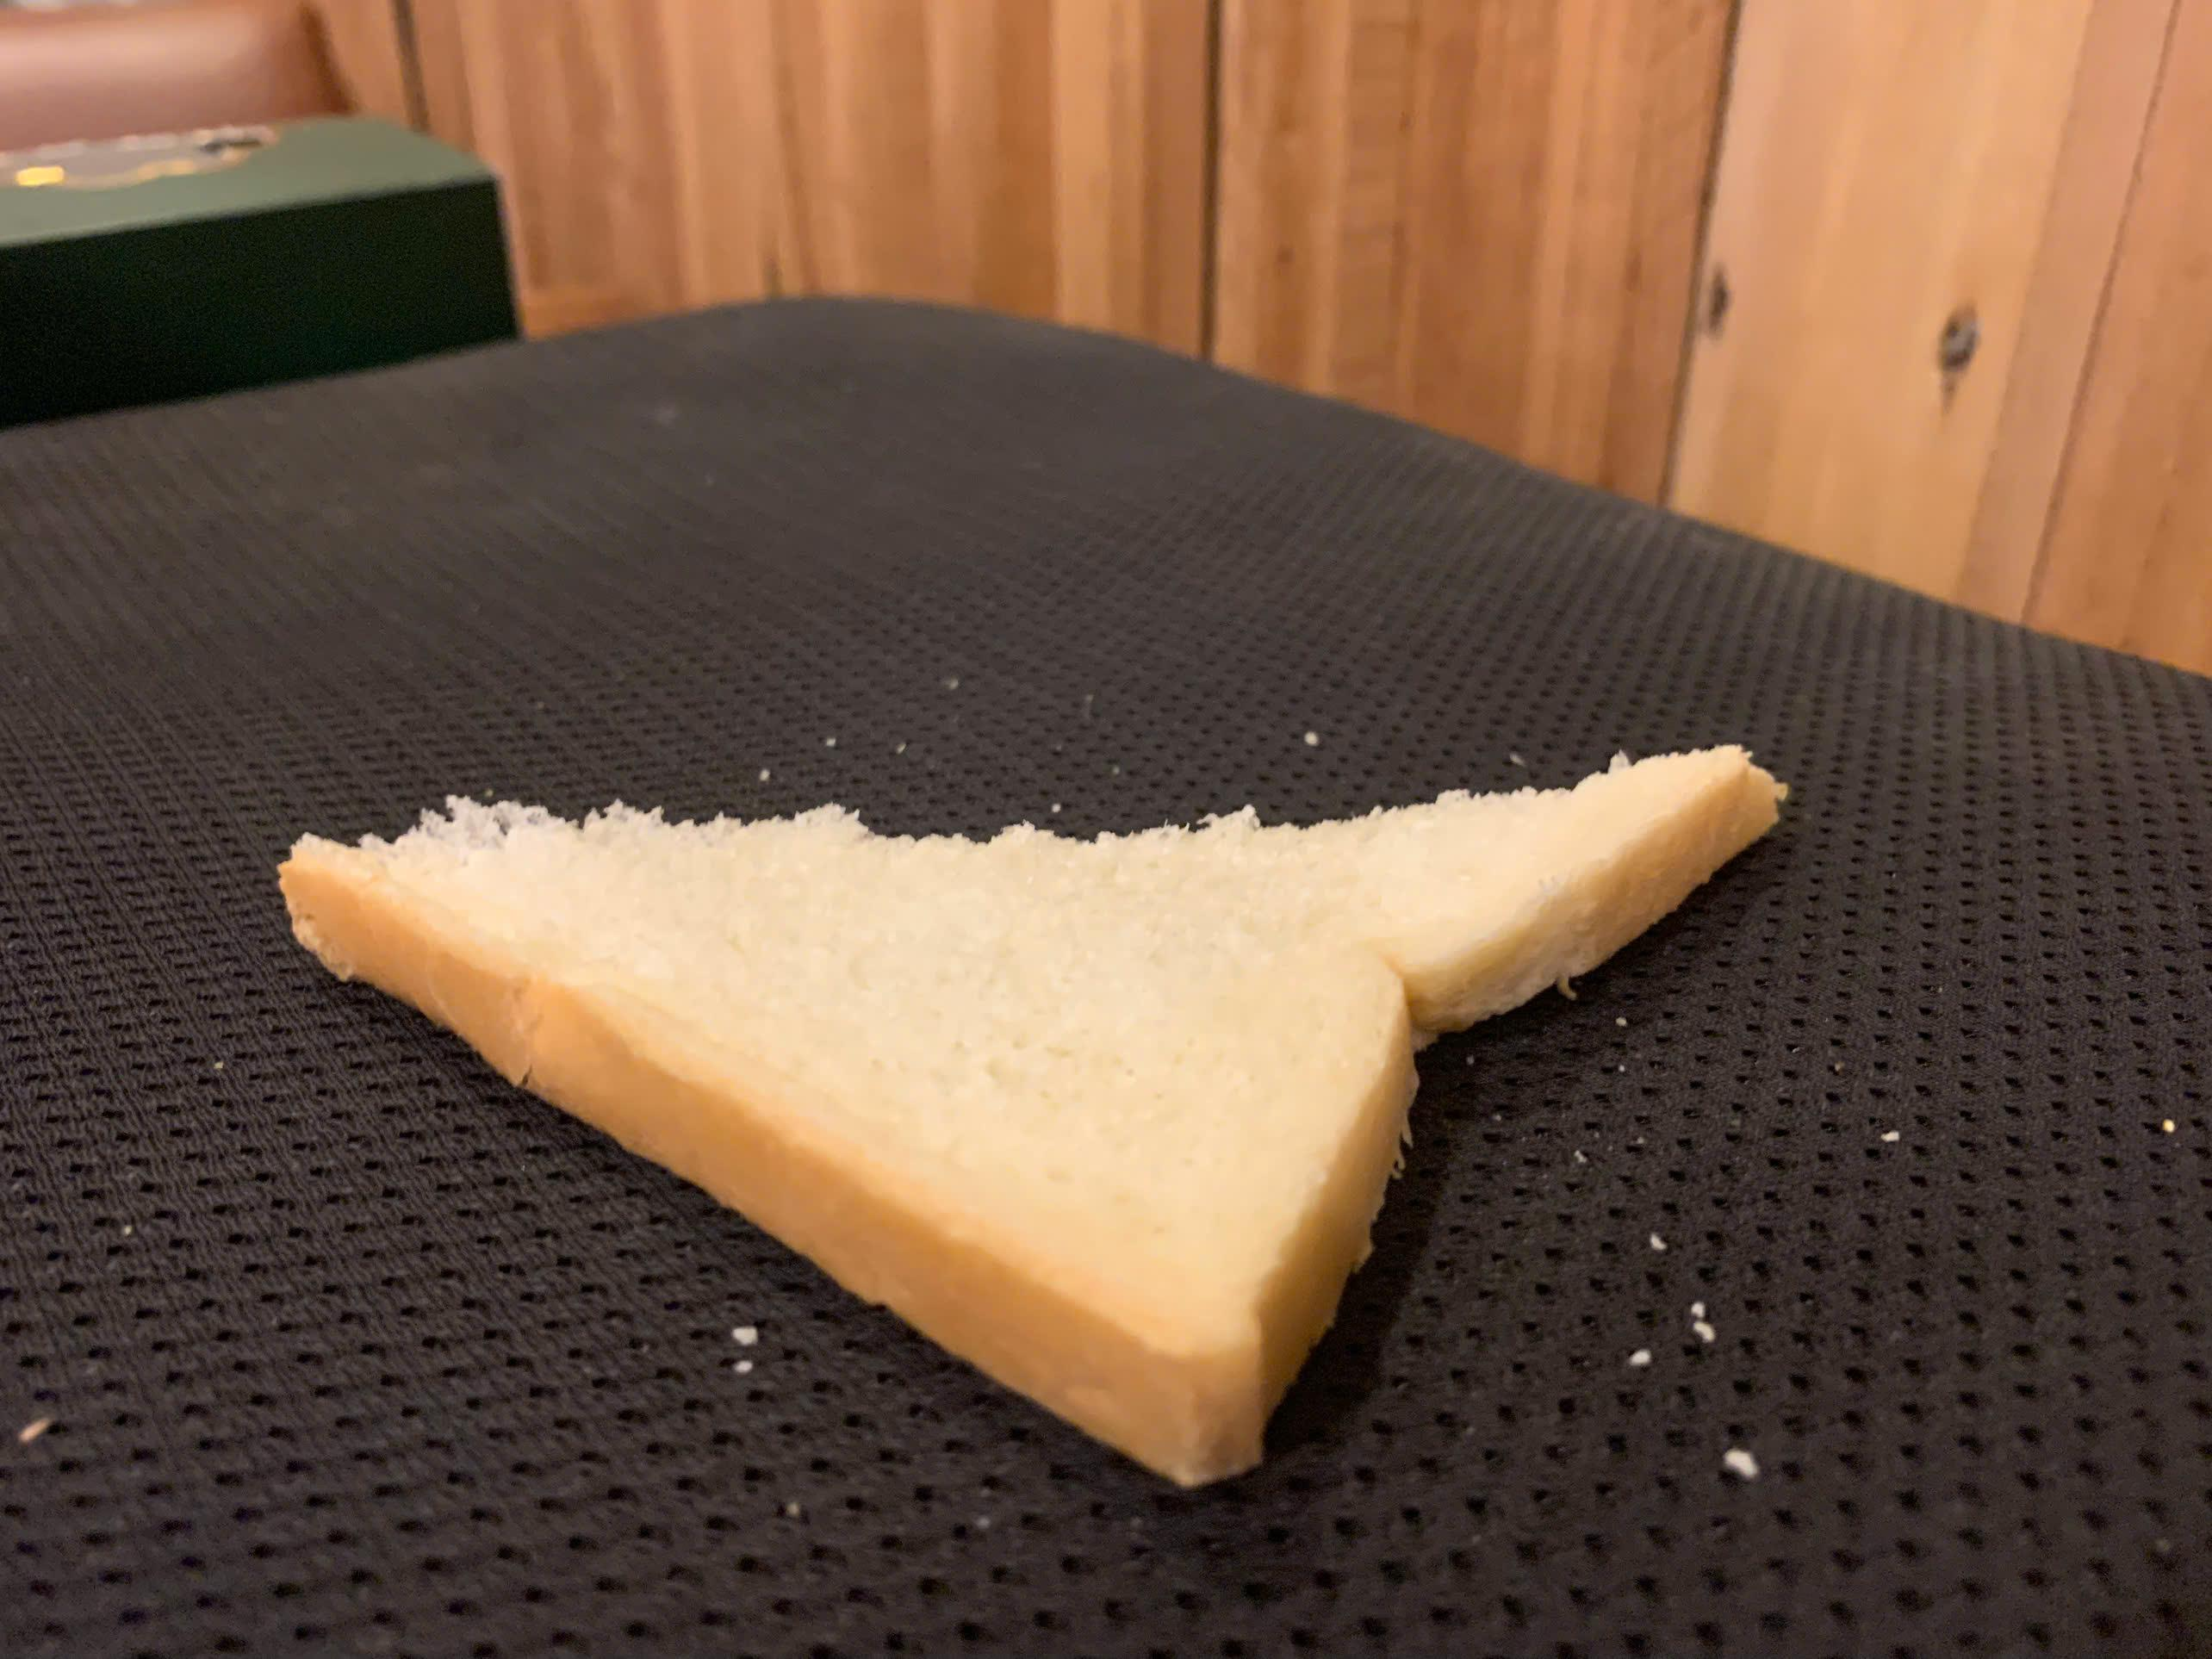Huu co: (279, 744, 1770, 1481)
